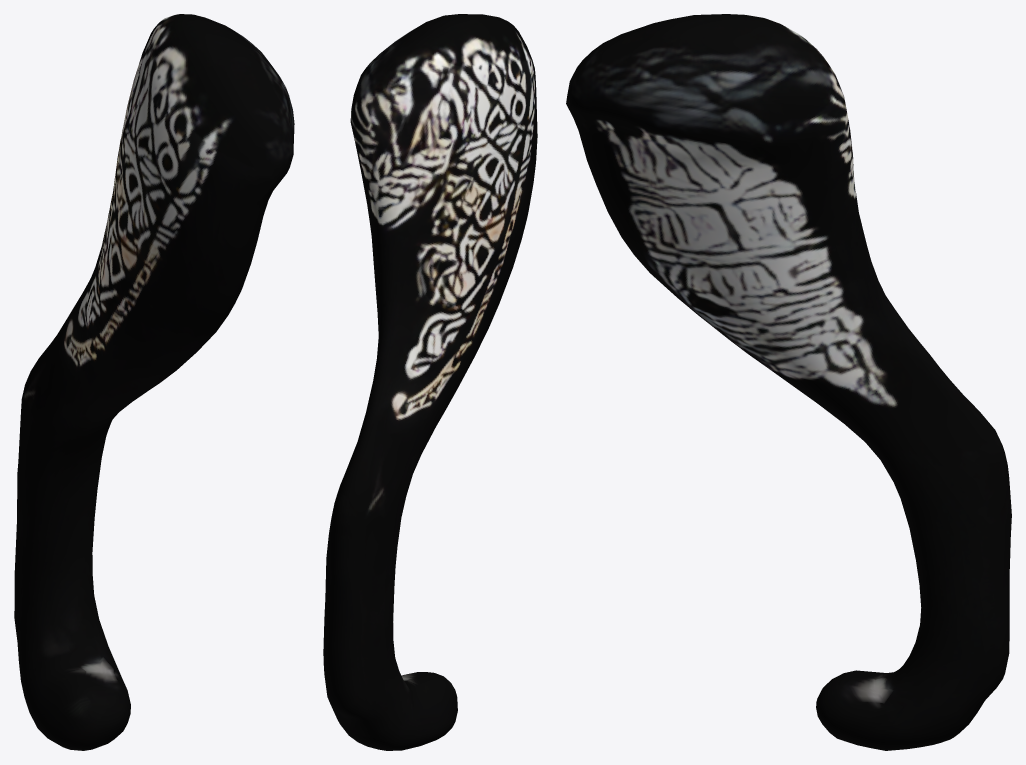
The model's file is xoloPata_Tras_Der.obj.
3 renders of one model, left to right at view 1: azimuth 30°, elevation 25°; view 2: azimuth 150°, elevation 25°; view 3: azimuth 270°, elevation 25°, orthographic. The views are drawn at different scales.
Visible parts, largest first — view 1: Pata_Tras_Der; view 2: Pata_Tras_Der; view 3: Pata_Tras_Der.
Boxes of the visible parts, x1=… form: Pata_Tras_Der: x1=14, y1=14, x2=294, y2=750; Pata_Tras_Der: x1=323, y1=14, x2=537, y2=750; Pata_Tras_Der: x1=566, y1=14, x2=1011, y2=750.
Bounding box in the file's own units: 0.1806 × 0.8263 × 0.4507.
1 material, 1 textured.
